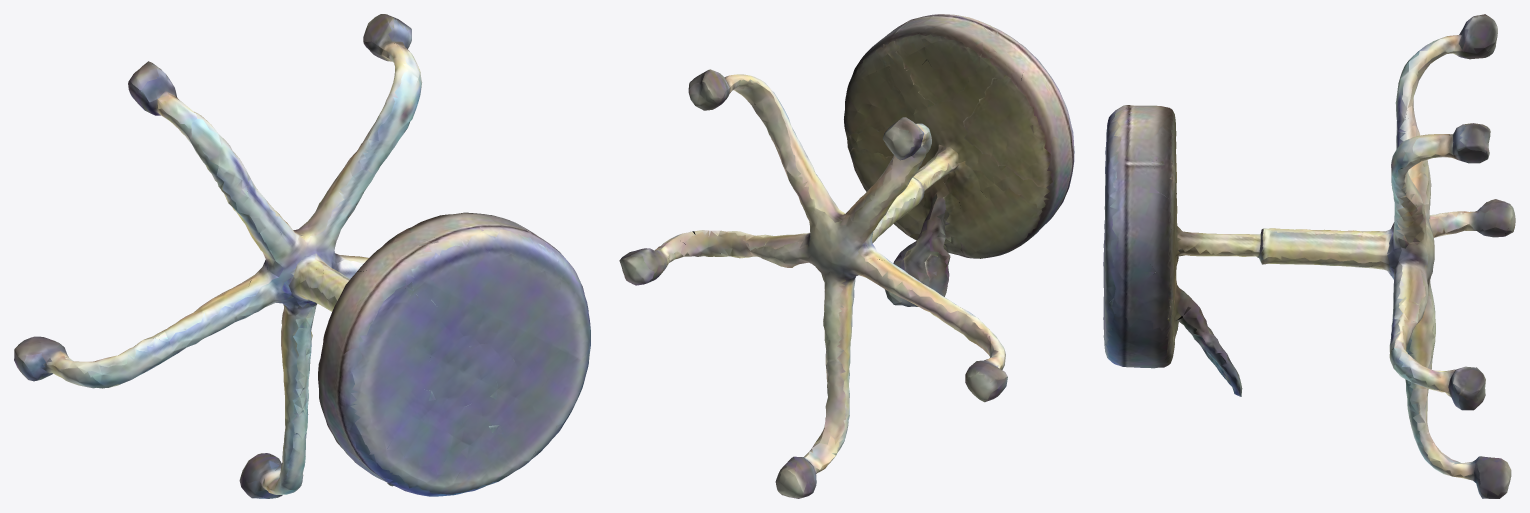
File: spar3d.glb
3 views of the same model, side by side, from view 1: azimuth 30°, elevation 25°; view 2: azimuth 150°, elevation 25°; view 3: azimuth 270°, elevation 25° (orthographic). The views are drawn at different scales.
Parts seen in each view (by area): view 1: world; view 2: world; view 3: world.
Boxes of the visible parts, bbox=[...] form: world: bbox=[14, 14, 590, 498]; world: bbox=[619, 14, 1074, 498]; world: bbox=[1103, 14, 1515, 498].
Bounding box in the file's own units: 0.9984 × 0.9637 × 0.8449.
Materials: 1 (1 with a texture image).
